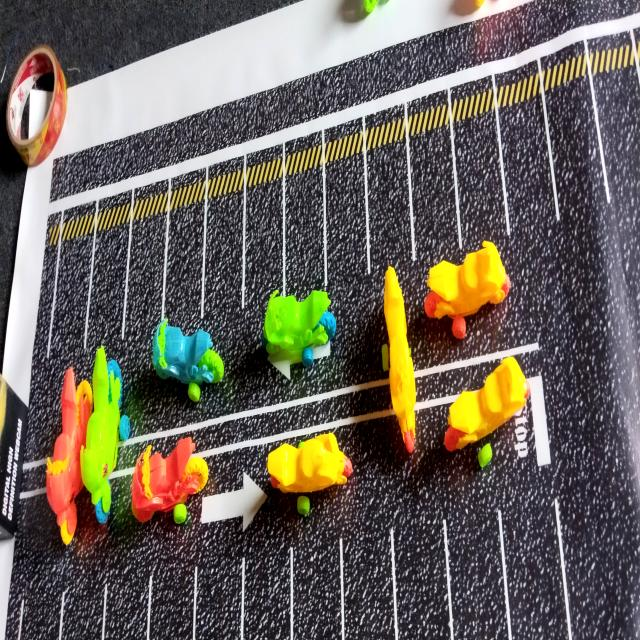bikes: (81, 347, 130, 523), (424, 241, 510, 339), (46, 367, 93, 544), (444, 357, 530, 451), (267, 433, 353, 515), (131, 438, 208, 524), (382, 266, 416, 453), (152, 319, 224, 401), (263, 291, 336, 367)
others: (3, 0, 471, 404), (6, 45, 67, 167), (0, 377, 29, 540)
slots: (500, 100, 557, 272), (545, 72, 610, 219), (503, 501, 567, 640), (392, 506, 450, 640), (449, 510, 508, 640), (455, 113, 507, 251), (410, 128, 458, 270), (122, 213, 167, 349), (594, 68, 640, 199), (49, 233, 93, 369), (367, 141, 412, 271), (86, 223, 129, 357), (326, 153, 367, 289), (164, 201, 205, 333), (343, 536, 395, 640), (285, 169, 324, 298), (203, 191, 242, 318), (245, 181, 282, 307), (295, 540, 341, 640), (244, 551, 294, 640), (196, 558, 242, 640), (150, 563, 195, 640), (105, 576, 148, 640), (63, 585, 107, 640), (20, 586, 62, 640)
